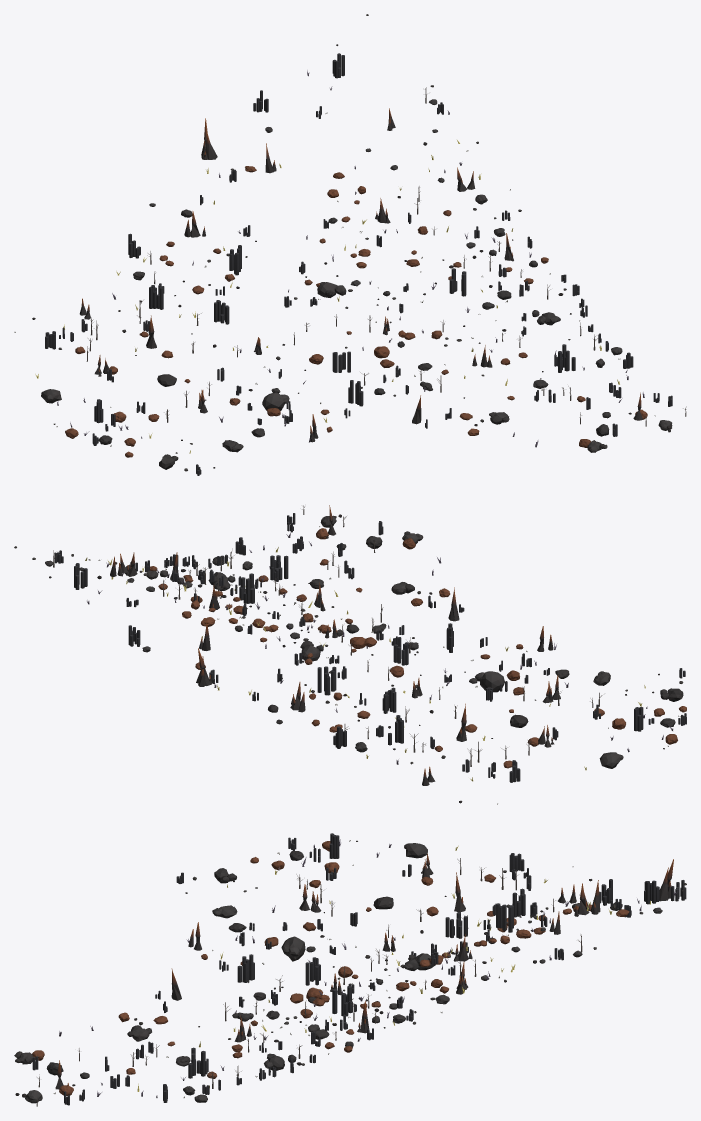
File: ash_land_scatter_c20_29.glb
3 renders of one model, top to bottom at view 1: azimuth 30°, elevation 25°; view 2: azimuth 150°, elevation 25°; view 3: azimuth 270°, elevation 25°, orthographic. The views are drawn at different scales.
Visible parts, largest first — view 1: ash_land_scatter_c20_29; view 2: ash_land_scatter_c20_29; view 3: ash_land_scatter_c20_29.
Boxes of the visible parts, bbox=[...] form: ash_land_scatter_c20_29: bbox=[14, 14, 686, 475]; ash_land_scatter_c20_29: bbox=[14, 505, 686, 804]; ash_land_scatter_c20_29: bbox=[14, 833, 686, 1106].
Bounding box in the file's own units: 241 × 93.48 × 257.
